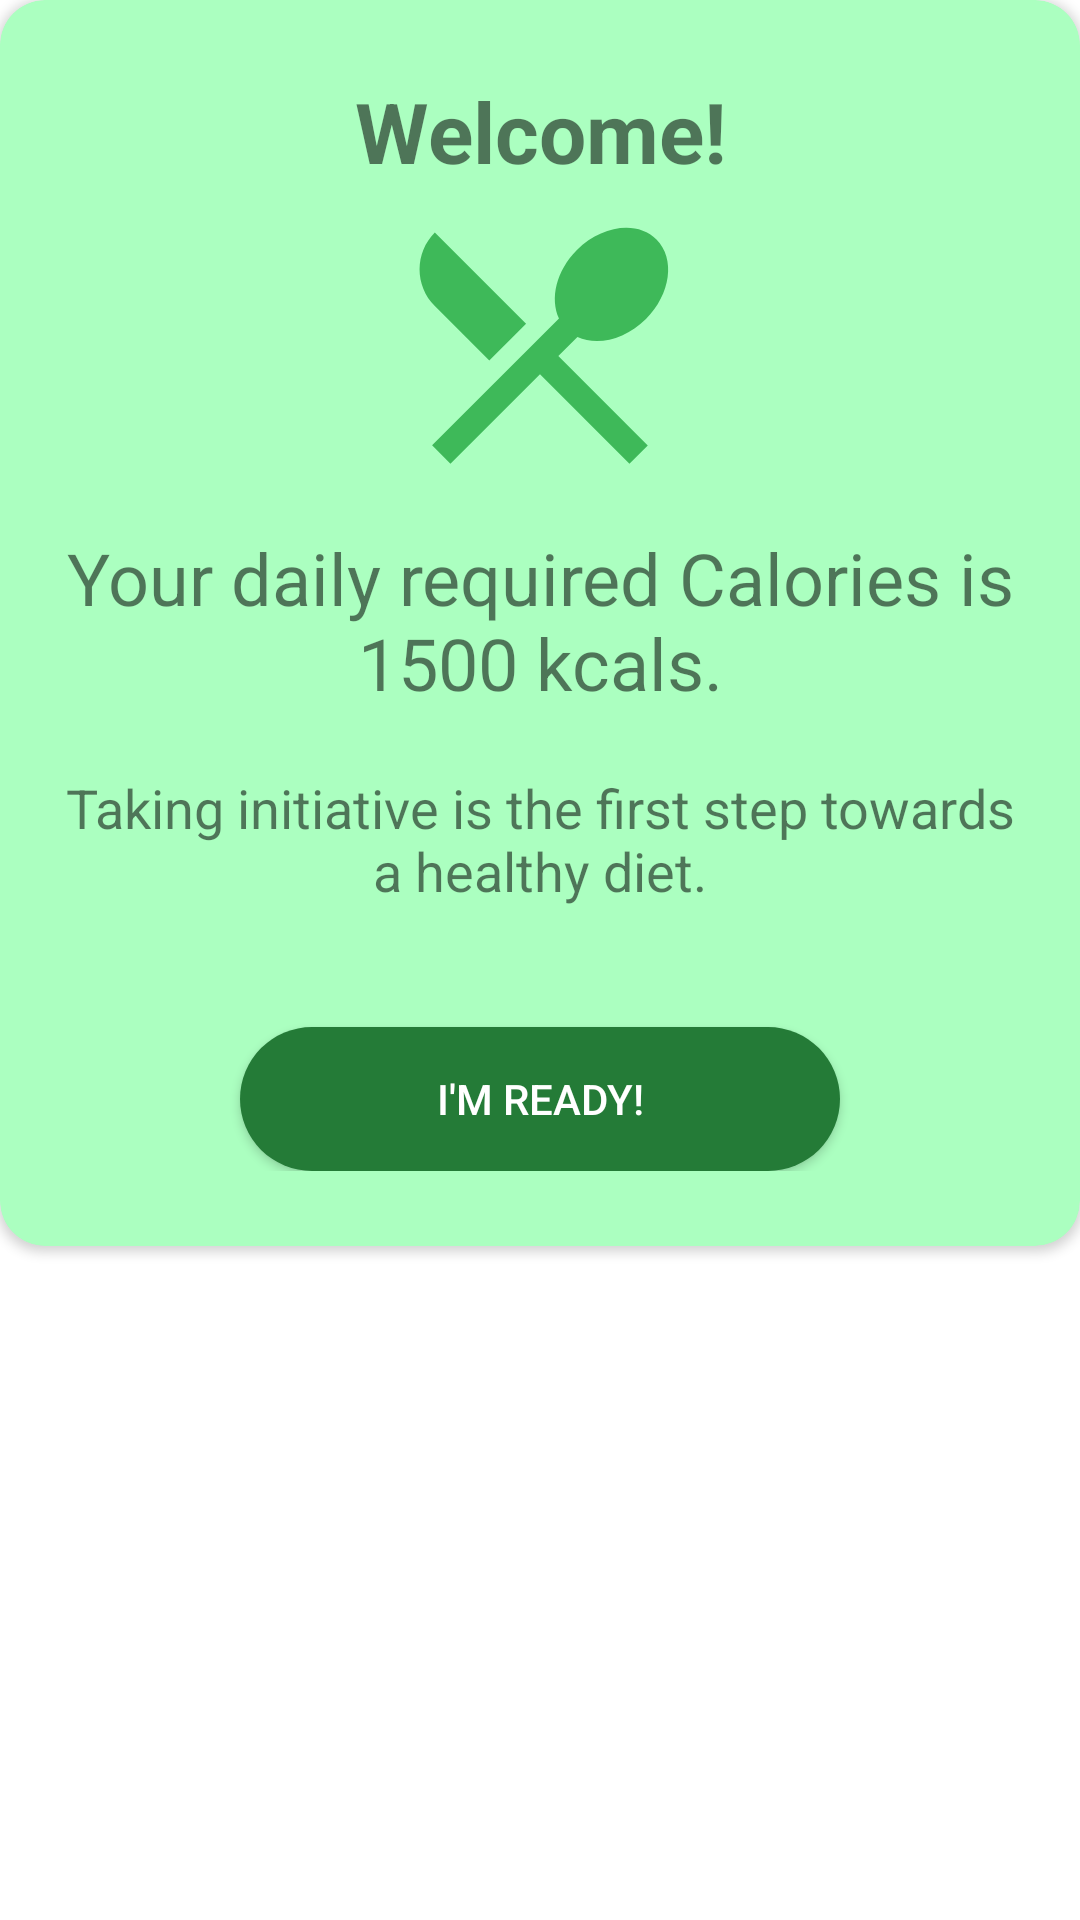

Point at icon controls on the screen. Image size 1080 × 1920, points as (x=x, y=y).
local dining: (x=543, y=345)
